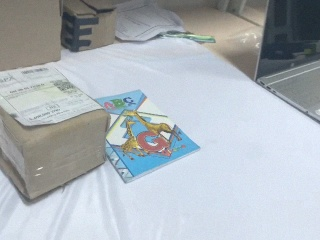book: (102, 88, 203, 185)
box: (1, 64, 108, 204), (1, 1, 63, 74), (59, 1, 118, 53)
